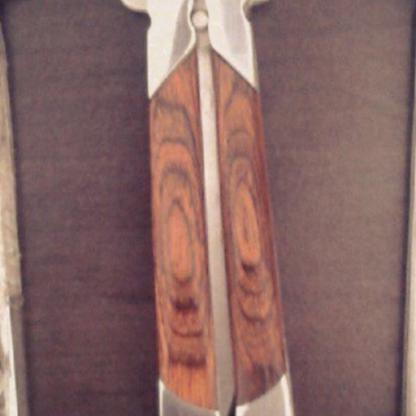knife: (114, 0, 302, 415)
